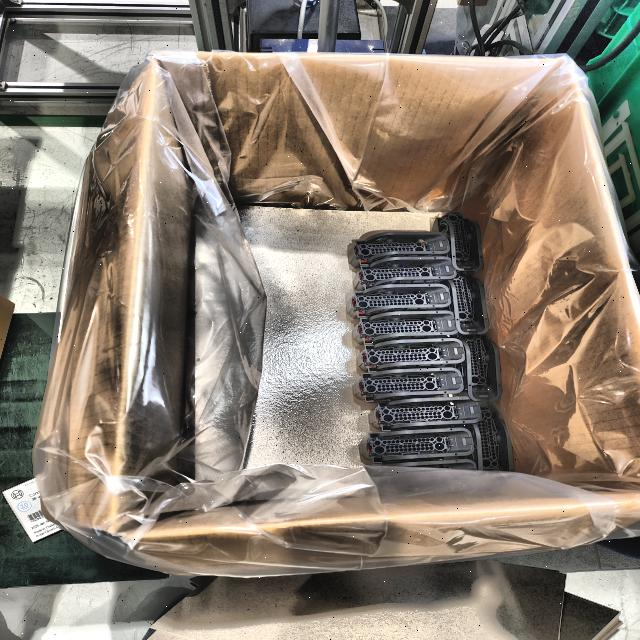P38: (357, 427, 474, 463), (367, 396, 482, 432), (352, 367, 465, 402), (347, 231, 451, 269), (346, 283, 452, 319), (357, 338, 466, 373), (353, 256, 458, 291), (353, 310, 458, 345), (431, 210, 485, 272), (473, 402, 515, 473), (462, 335, 504, 402), (449, 272, 491, 335), (371, 459, 478, 470)
